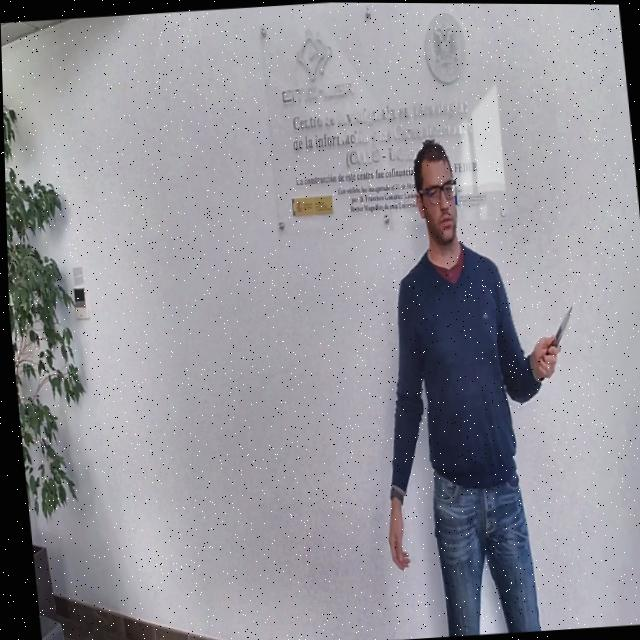knife: (546, 298, 578, 347)
